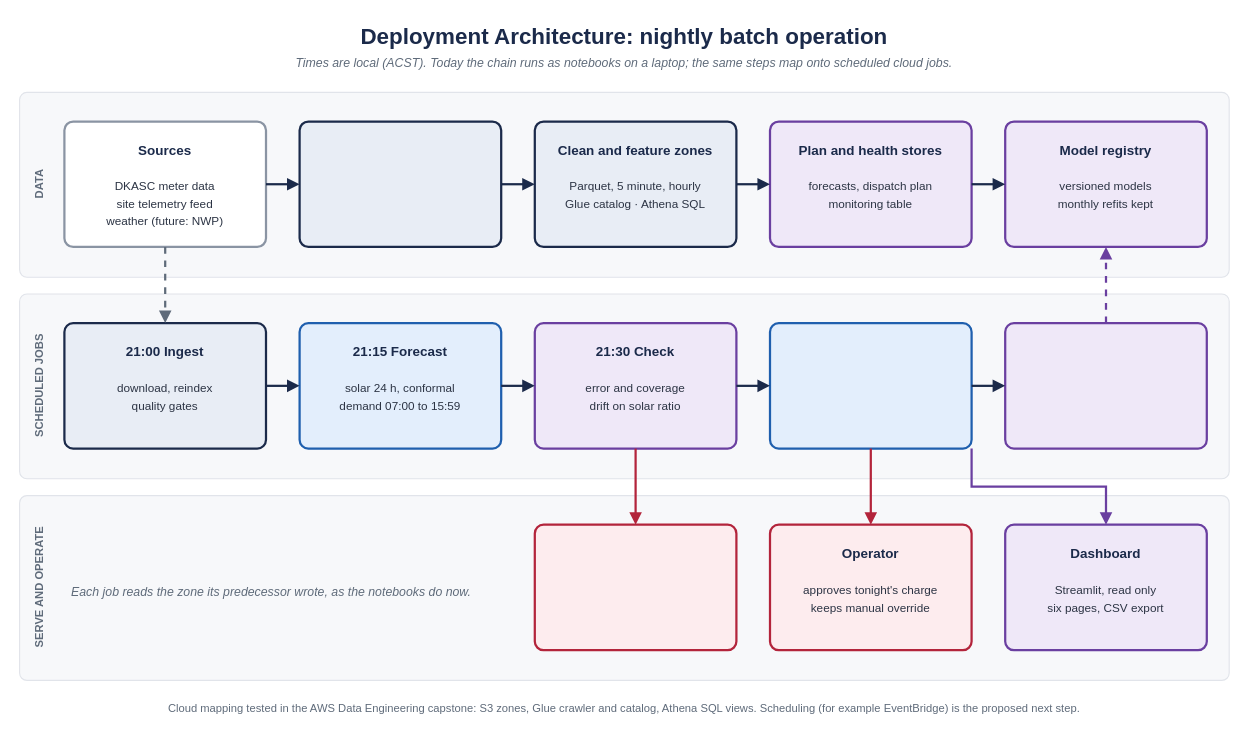
Some shapes in this 1249 by 744 pixel diagram are drawn without their labels. Here are the shapes that lost their labels. From the top down, the centre of each, then its label:
At [400,184]: "Raw zone immutable downloads S3 bucket, outside git".
At [870,385]: "22:00 Plan battery rule grid energy to buy".
At [1105,385]: "1st of month refit demand model promote if better".
At [635,587]: "Alerts email or chat on breach retrain early if persistent".
